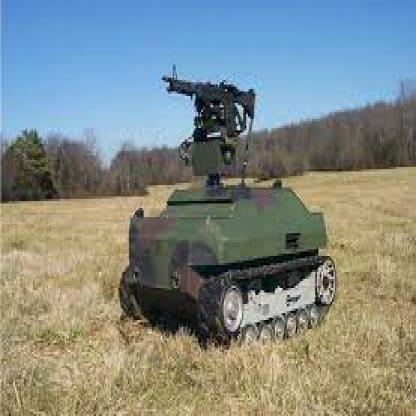UGV: (118, 185, 336, 349)
